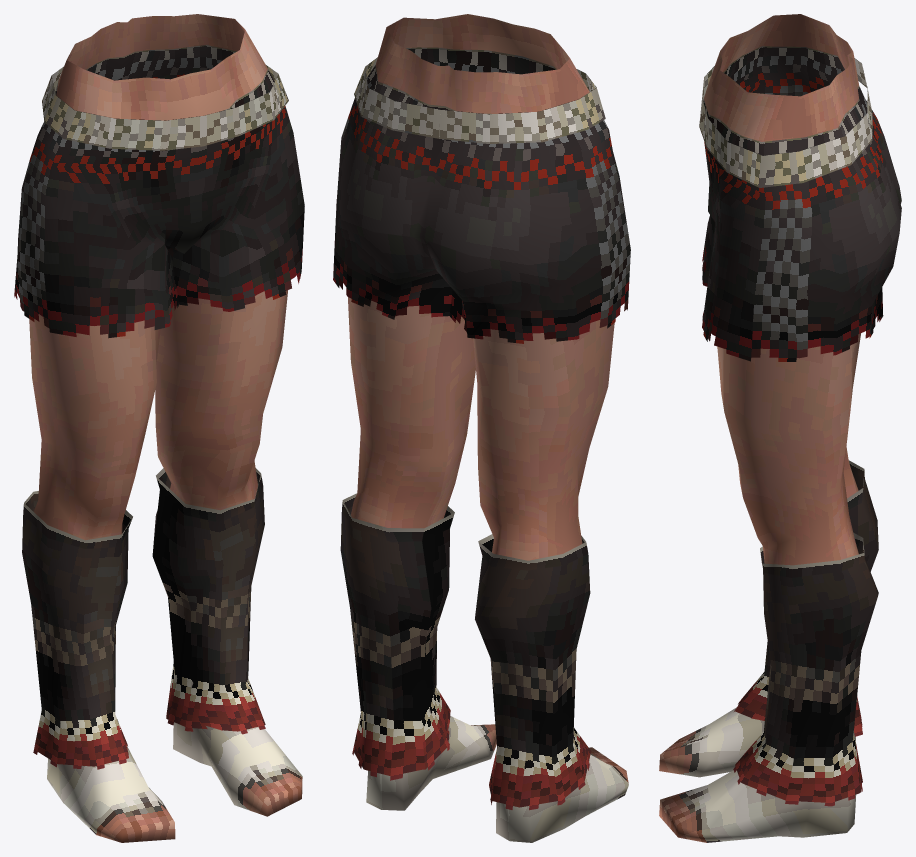
File: m_reg163.glb
3 views of the same model, side by side, from view 1: azimuth 30°, elevation 25°; view 2: azimuth 150°, elevation 25°; view 3: azimuth 270°, elevation 25° (orthographic). The views are drawn at different scales.
Bounding box in the file's own units: 41.87 × 111 × 32.93.
Materials: 1 (1 with a texture image).
